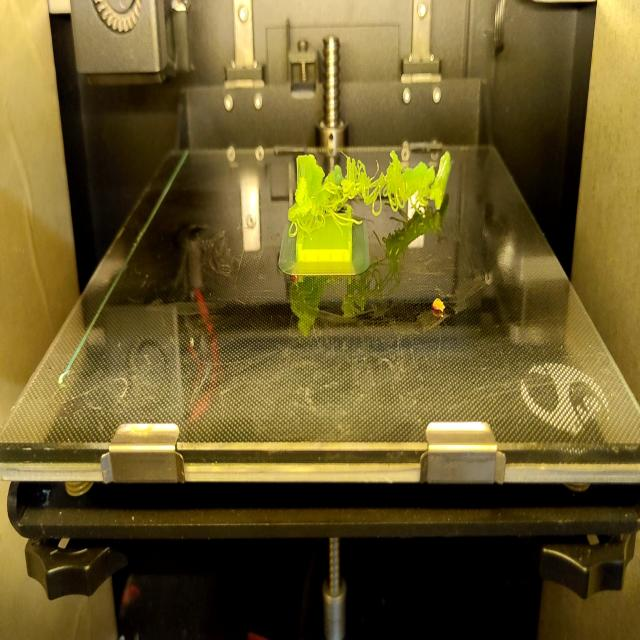spaghetti: (286, 145, 429, 234)
